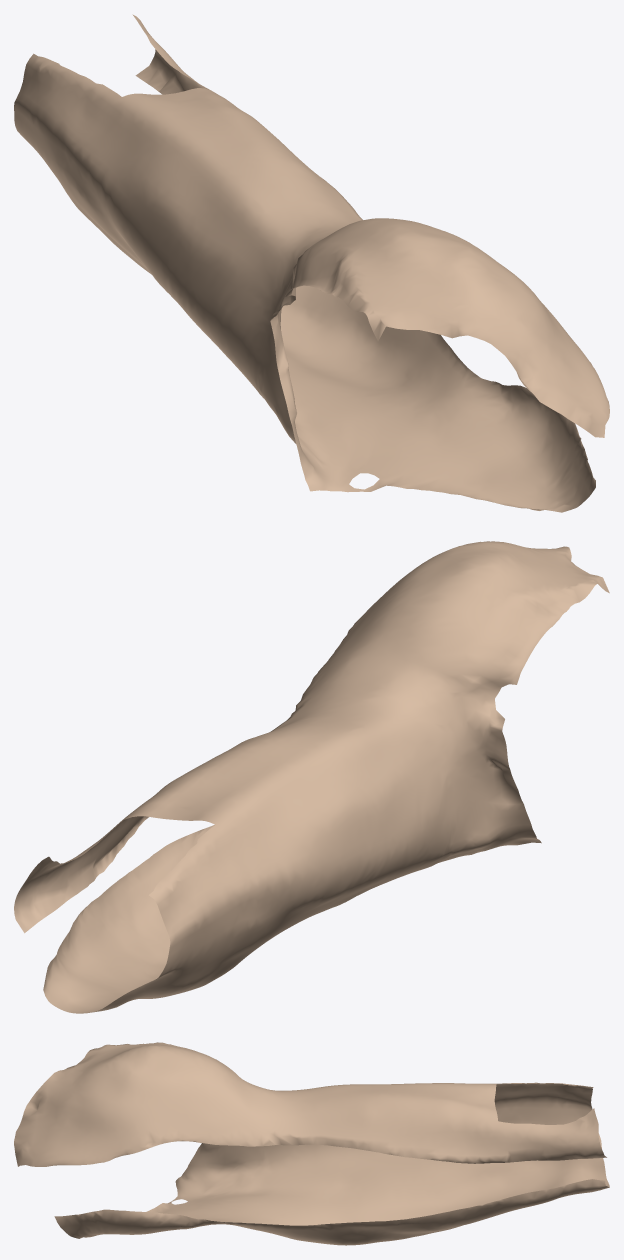
3 views of the same model, one above another, from view 1: azimuth 30°, elevation 25°; view 2: azimuth 150°, elevation 25°; view 3: azimuth 270°, elevation 25° (orthographic). The views are drawn at different scales.
Parts seen in each view (by area): view 1: 左侧阔筋膜; view 2: 左侧阔筋膜; view 3: 左侧阔筋膜.
Part boxes in pixels (x1,y1,x2,y2): 左侧阔筋膜: (14,14,609,512); 左侧阔筋膜: (14,541,609,1013); 左侧阔筋膜: (14,1042,609,1245).
Size of the model in its own units: 0.2348 by 0.258 by 0.8397.
